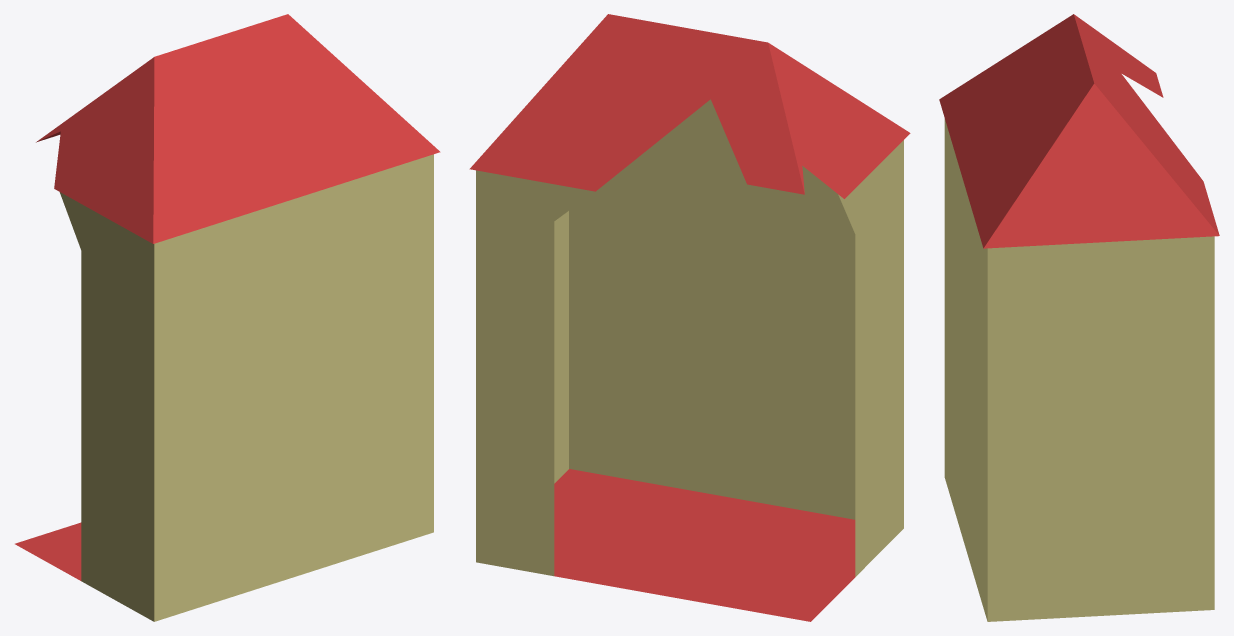
3 views of the same model, side by side, from view 1: azimuth 30°, elevation 25°; view 2: azimuth 150°, elevation 25°; view 3: azimuth 270°, elevation 25° (orthographic). The views are drawn at different scales.
Size of the model in its own units: 19.81 by 14.74 by 28.65.
